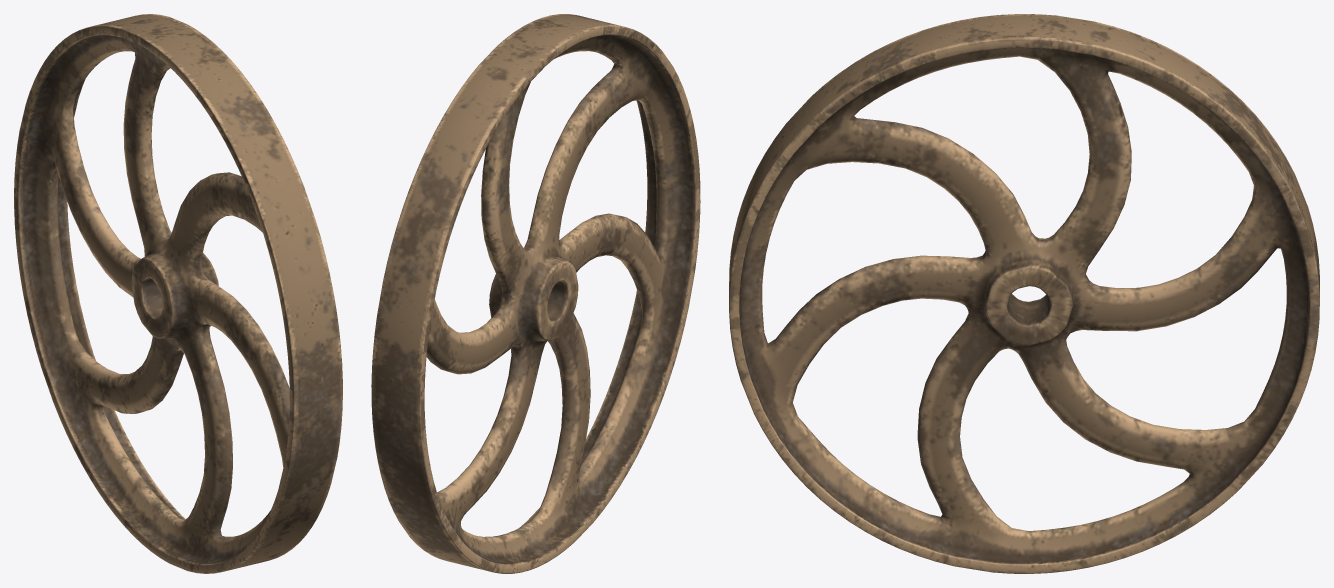
The model's file is SM_SteampunkGear2.fbx.
3 views of the same model, side by side, from view 1: azimuth 30°, elevation 25°; view 2: azimuth 150°, elevation 25°; view 3: azimuth 270°, elevation 25° (orthographic). The views are drawn at different scales.
Visible parts, largest first — view 1: SM_SteampunkGear2_LOD0; view 2: SM_SteampunkGear2_LOD0; view 3: SM_SteampunkGear2_LOD0.
Part boxes in pixels (x1,y1,x2,y2): SM_SteampunkGear2_LOD0: [14, 14, 342, 573]; SM_SteampunkGear2_LOD0: [371, 14, 700, 573]; SM_SteampunkGear2_LOD0: [729, 14, 1319, 573].
Bounding box in the file's own units: 11.1 × 110 × 110.
1 material, 1 textured.
